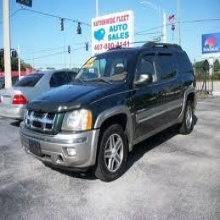no damage: (20, 45, 196, 182), (1, 66, 80, 121)
